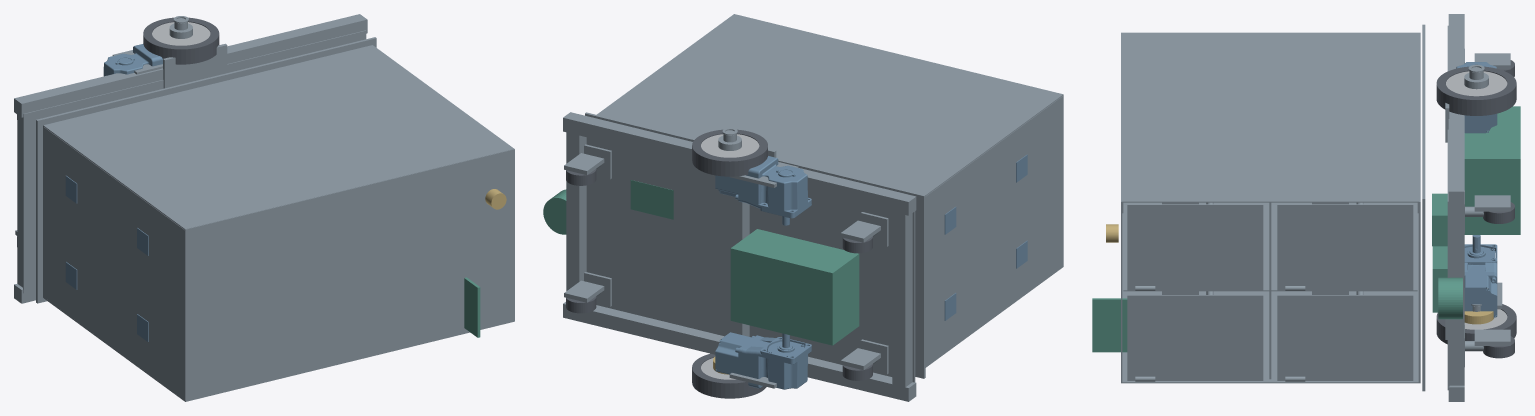
The model's file is A13_ROBOT_COMPLET.glb.
3 views of the same model, side by side, from view 1: azimuth 30°, elevation 25°; view 2: azimuth 150°, elevation 25°; view 3: azimuth 270°, elevation 25° (orthographic). The views are drawn at different scales.
Parts seen in each view (by area): view 1: K01_49, K02_55, K03_51, C01_1, C03_5, C04_6, R01_25, C06_8, M01_D_13, C02_2, E07_125, R02_26 (+1 smaller); view 2: K02_55, C03_5, K03_51, E01_120, C01_1, C01_0, M01_9, C02_2, M01_D_13, C04_6, C02_4, R01_25 (+13 smaller); view 3: K02_55, K07_60, K07_62, K07_56, K07_58, E01_120, K02_54, K05_52, C01_1, M01_9, C02_4, R01_25 (+17 smaller).
Boxes of the visible parts, x1,y1,x2,y2 form: K01_49: (185, 149, 514, 401); K02_55: (44, 45, 514, 229); K03_51: (43, 127, 185, 400); C01_1: (14, 14, 367, 117); C03_5: (23, 30, 366, 293); C04_6: (36, 37, 376, 303); R01_25: (143, 17, 219, 64); C06_8: (163, 43, 227, 88); M01_D_13: (103, 44, 162, 76); C02_2: (17, 115, 22, 287); E07_125: (464, 277, 480, 337); R02_26: (152, 22, 210, 45); K02_55: (596, 14, 1063, 195); C03_5: (586, 137, 915, 382); K03_51: (925, 95, 1063, 366); E01_120: (730, 229, 859, 345); C01_1: (563, 112, 916, 215); C01_0: (563, 302, 916, 401); M01_9: (715, 332, 811, 389); C02_2: (892, 210, 912, 388); M01_D_13: (715, 156, 811, 225); C04_6: (585, 112, 925, 378); C02_4: (566, 129, 586, 290); R01_25: (692, 129, 767, 176); K02_55: (1121, 32, 1419, 202); K07_60: (1277, 204, 1413, 290); K07_62: (1127, 204, 1263, 290); K07_56: (1277, 295, 1413, 380); K07_58: (1127, 295, 1263, 380); E01_120: (1464, 106, 1520, 234); K02_54: (1122, 213, 1418, 383); K05_52: (1123, 202, 1417, 291); C01_1: (1448, 14, 1464, 205); M01_9: (1464, 235, 1497, 318); C02_4: (1449, 206, 1464, 385); R01_25: (1436, 66, 1516, 115).
Bounding box in the file's own units: 1112 × 768 × 1070.
